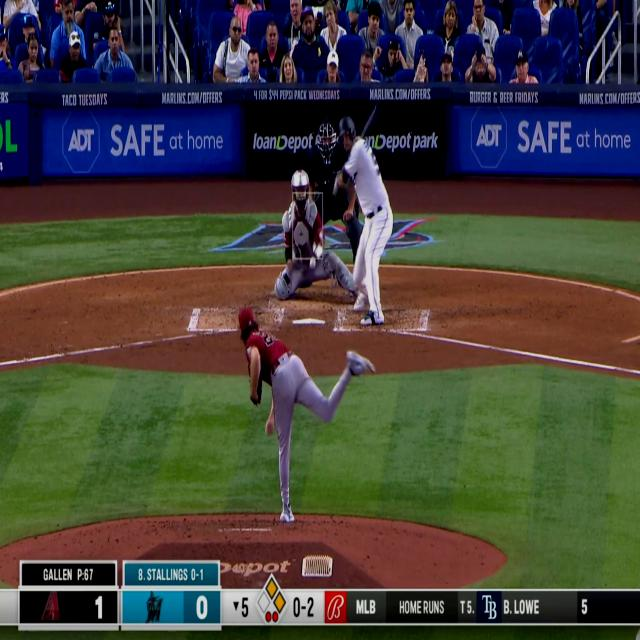baseball: (308, 256, 316, 271)
